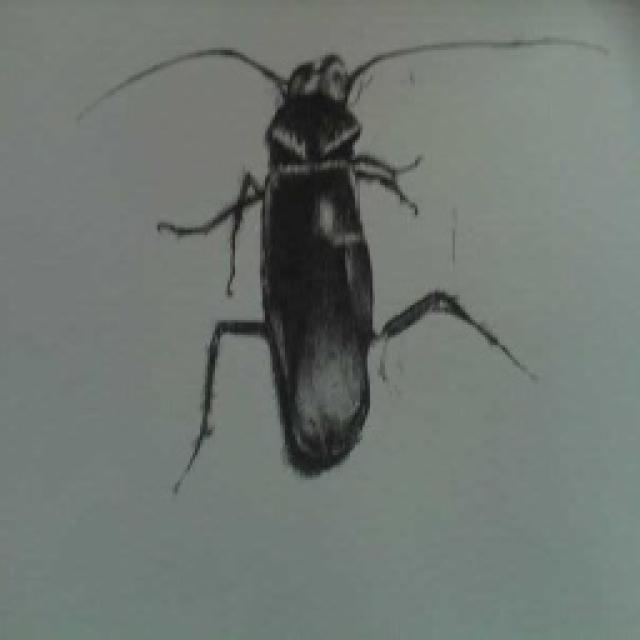cockroach: (72, 31, 612, 498)
